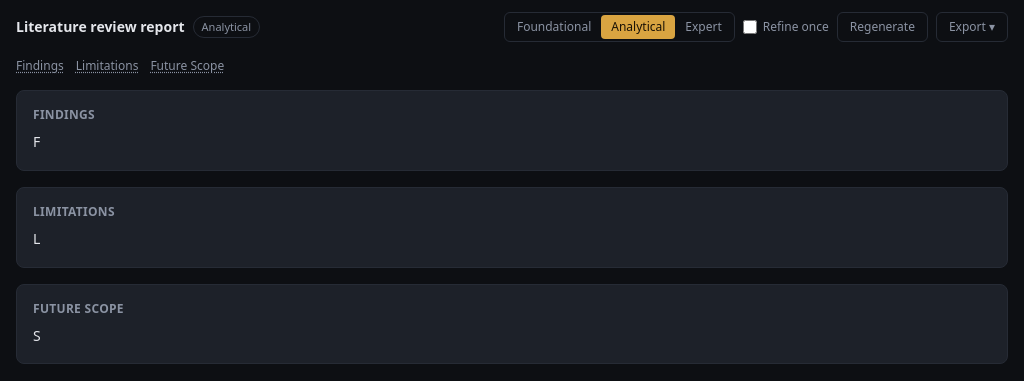
Test: ReportModePanel -- report-quality Phase R5C.3: Export menu › closes the menu after clicking an option
Click the button with test id "export-menu-trigger": coordinates (972, 27) [936,12,1008,42]
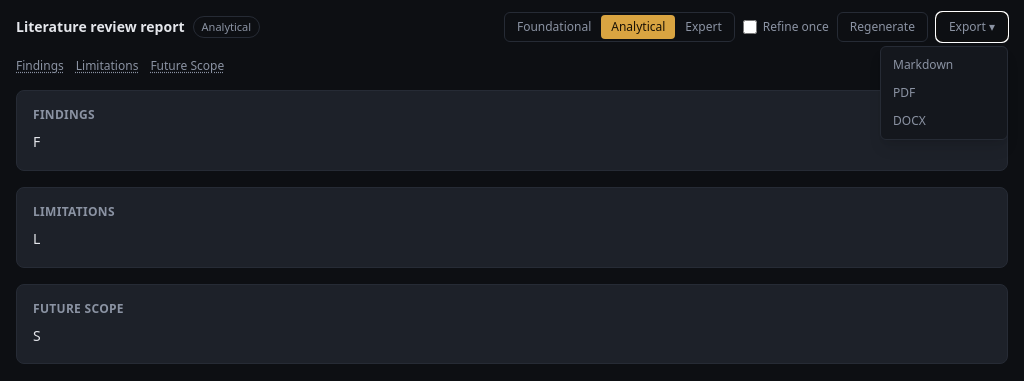
Expected: the menu with test id "export-menu" is shown, [880,46,1008,140]
Click the menu item with test id "export-menu-option-pdf": coordinates (904, 92) [893,84,915,101]
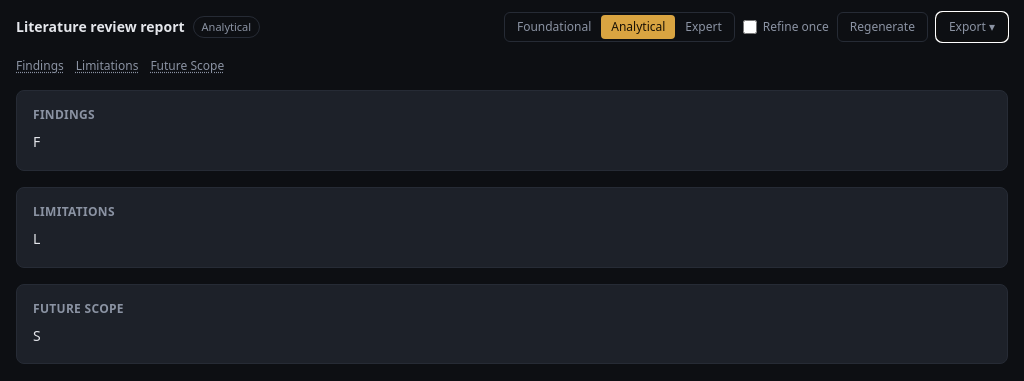
Expected: the menu with test id "export-menu" is gone
